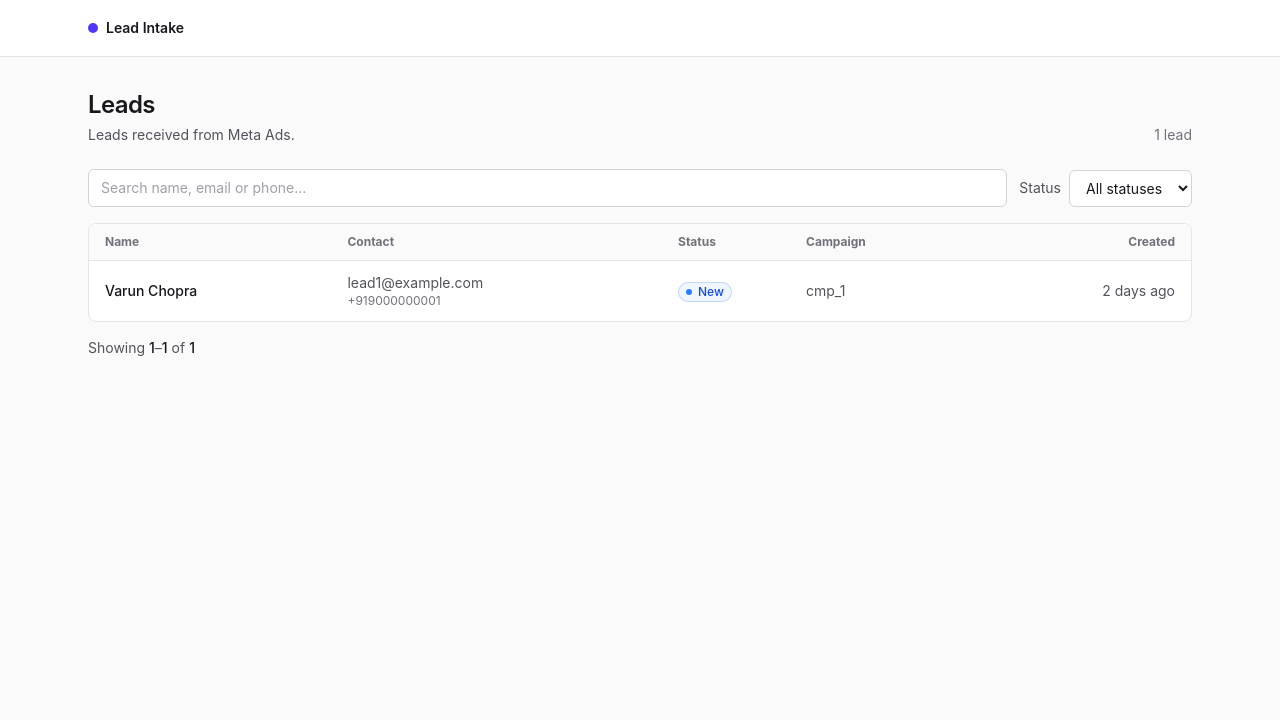
Scenario: lead detail: status updates (server-authoritative) › the list shows the new status after going back (its cache was refreshed)
Expected: the row that starts with "Varun Chopra" shows "New", [698,284,724,299]
Click the link "Varun Chopra": (151,290) [105,282,197,299]
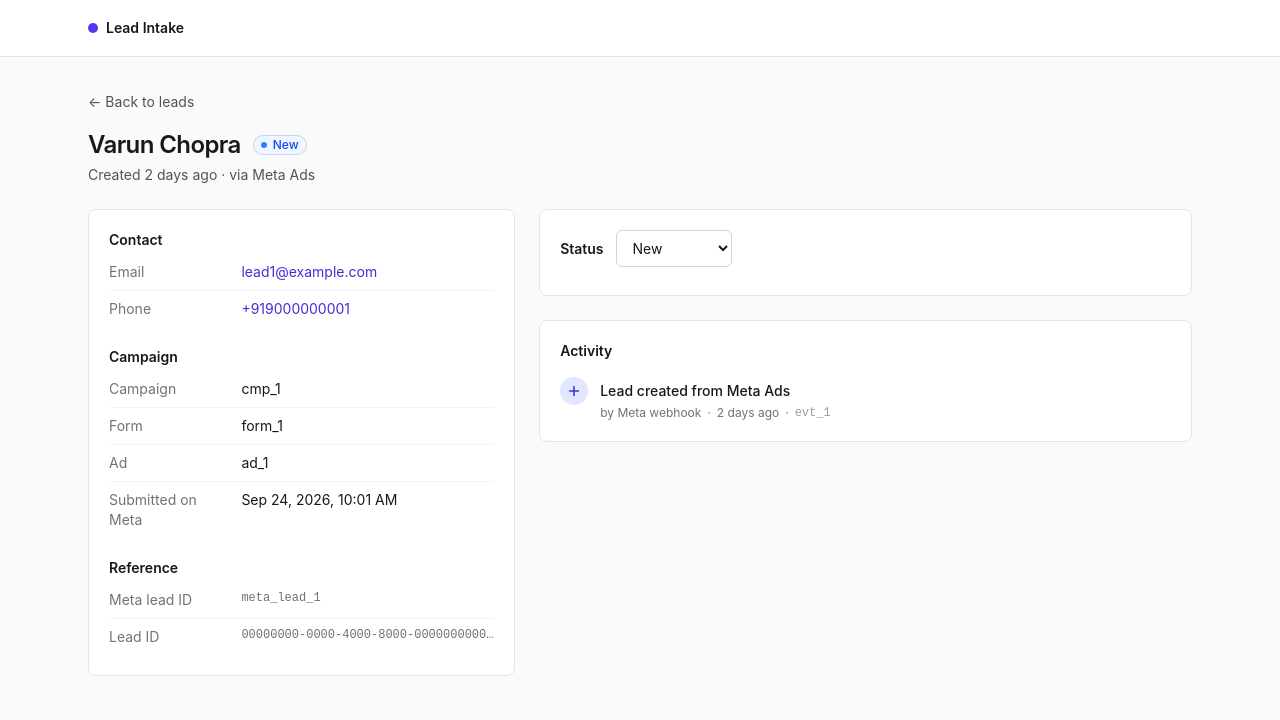
Expected: the list named "Activity" is shown, [560,377,831,420]
Select "Converted" in the dropdown labelled "Status": (674,248) [616,230,732,267]
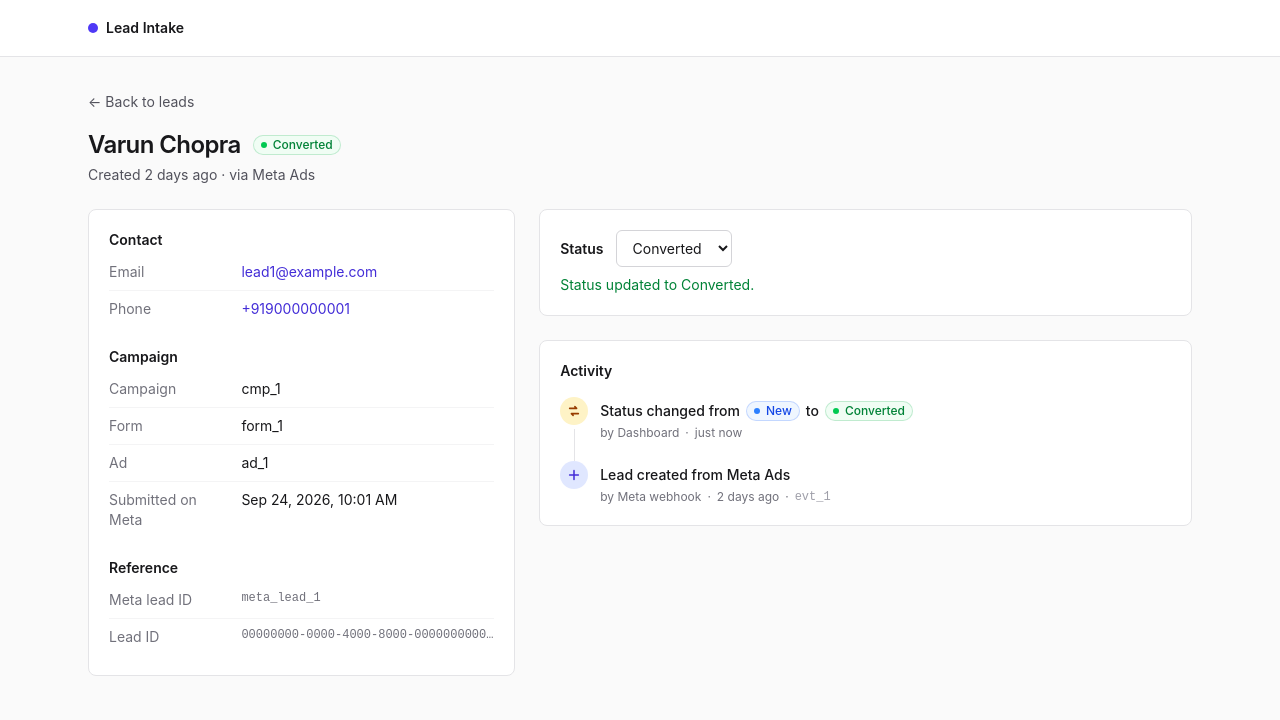
Expected: the text "Status updated to Converted." is shown, [560,276,754,293]
Click the link "← Back to leads": (141,102) [88,92,194,112]
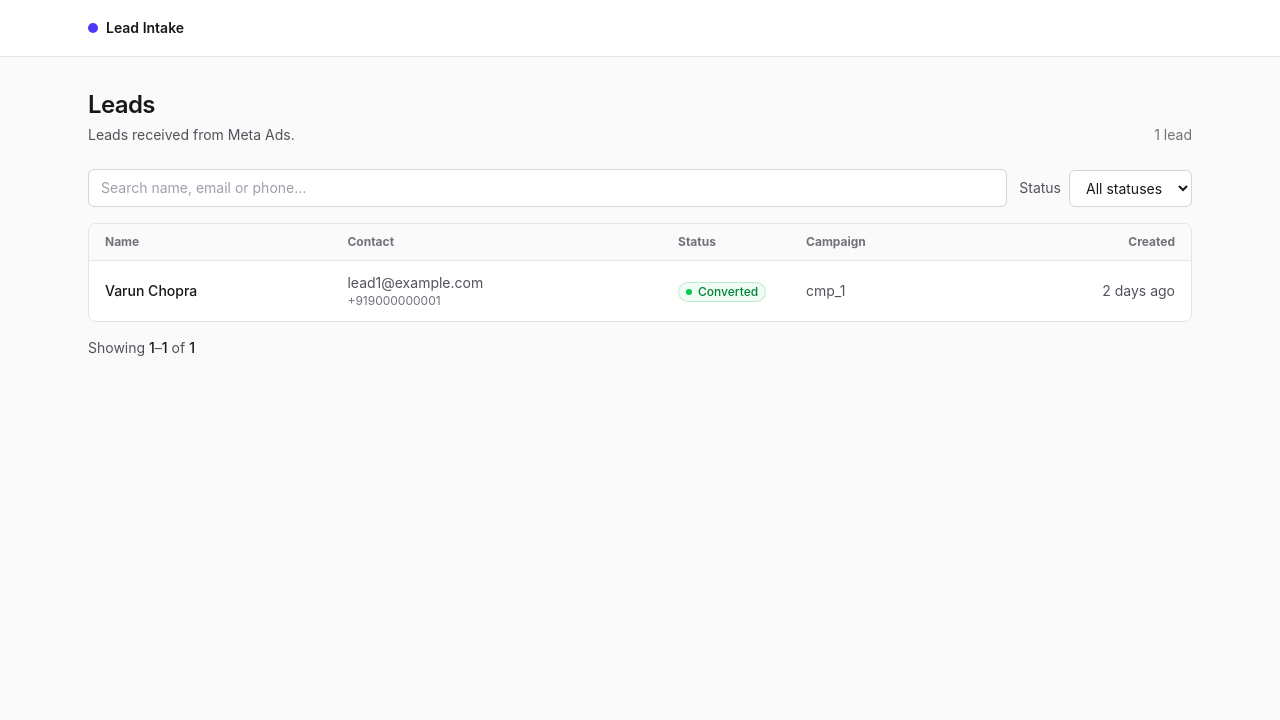
Expected: the row that starts with "Varun Chopra" shows "Converted", [698,284,758,299]
